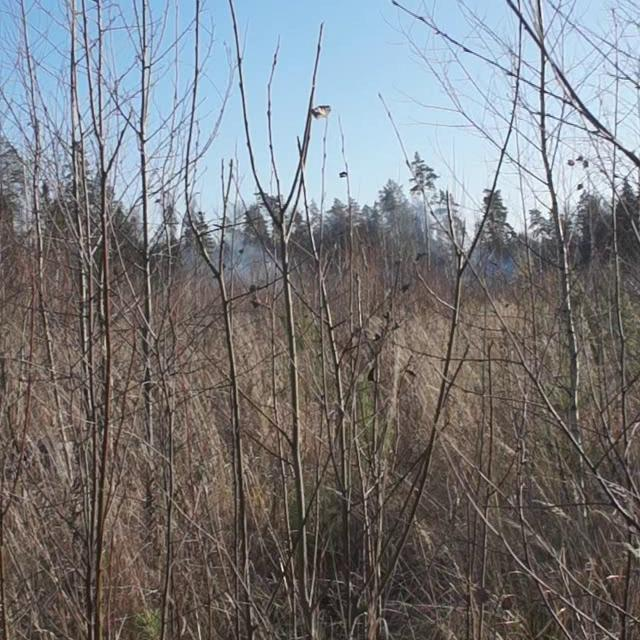Smoke: (407, 222, 527, 296), (177, 228, 291, 300)
